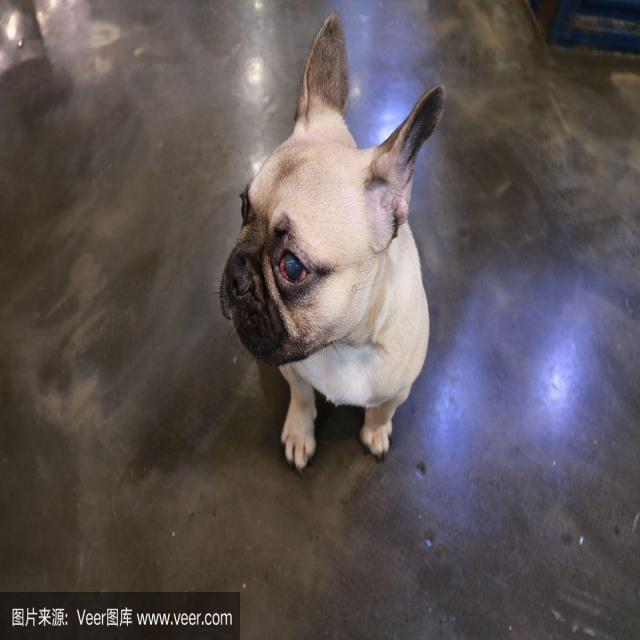eye: (276, 241, 312, 294)
